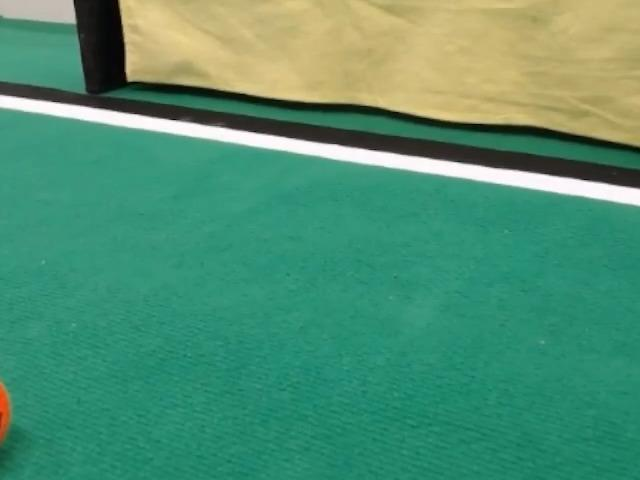Ball: (0, 381, 10, 445)
